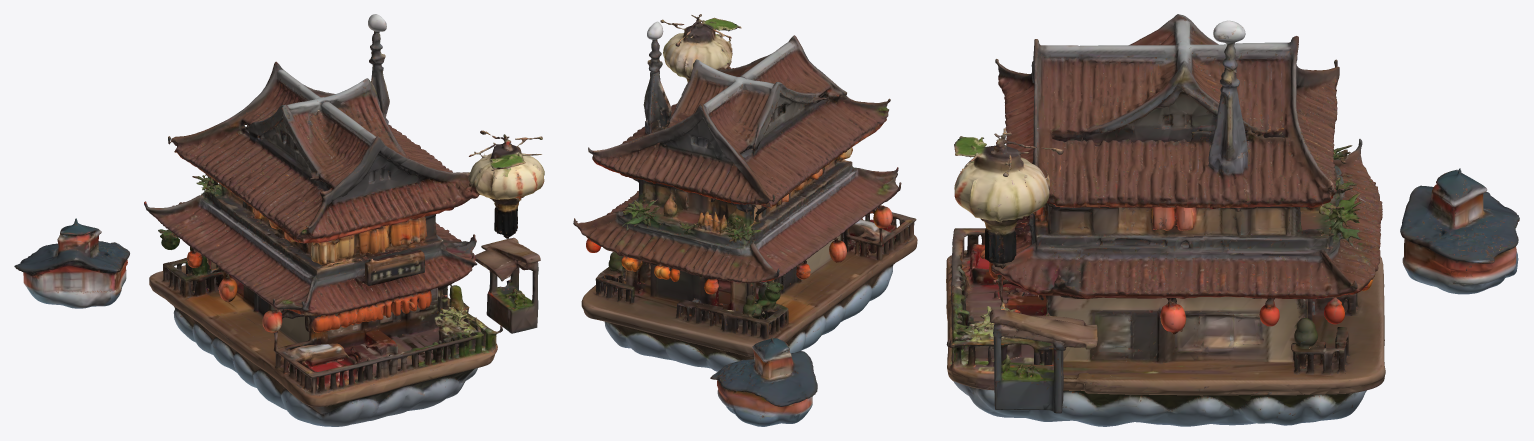
Rendered from bq_tavern.hd.glb.
The picture shows the model from 3 angles, left to right: view 1: azimuth 30°, elevation 25°; view 2: azimuth 150°, elevation 25°; view 3: azimuth 270°, elevation 25°; orthographic projection. The views are drawn at different scales.
Size of the model in its own units: 1.83 by 1.59 by 1.99.
Materials: 1 (1 with a texture image).
